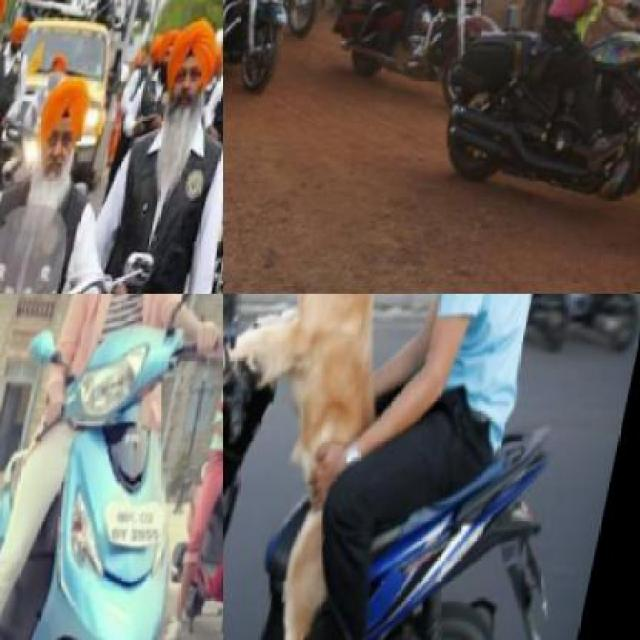Without Helmet: (19, 68, 112, 202)
